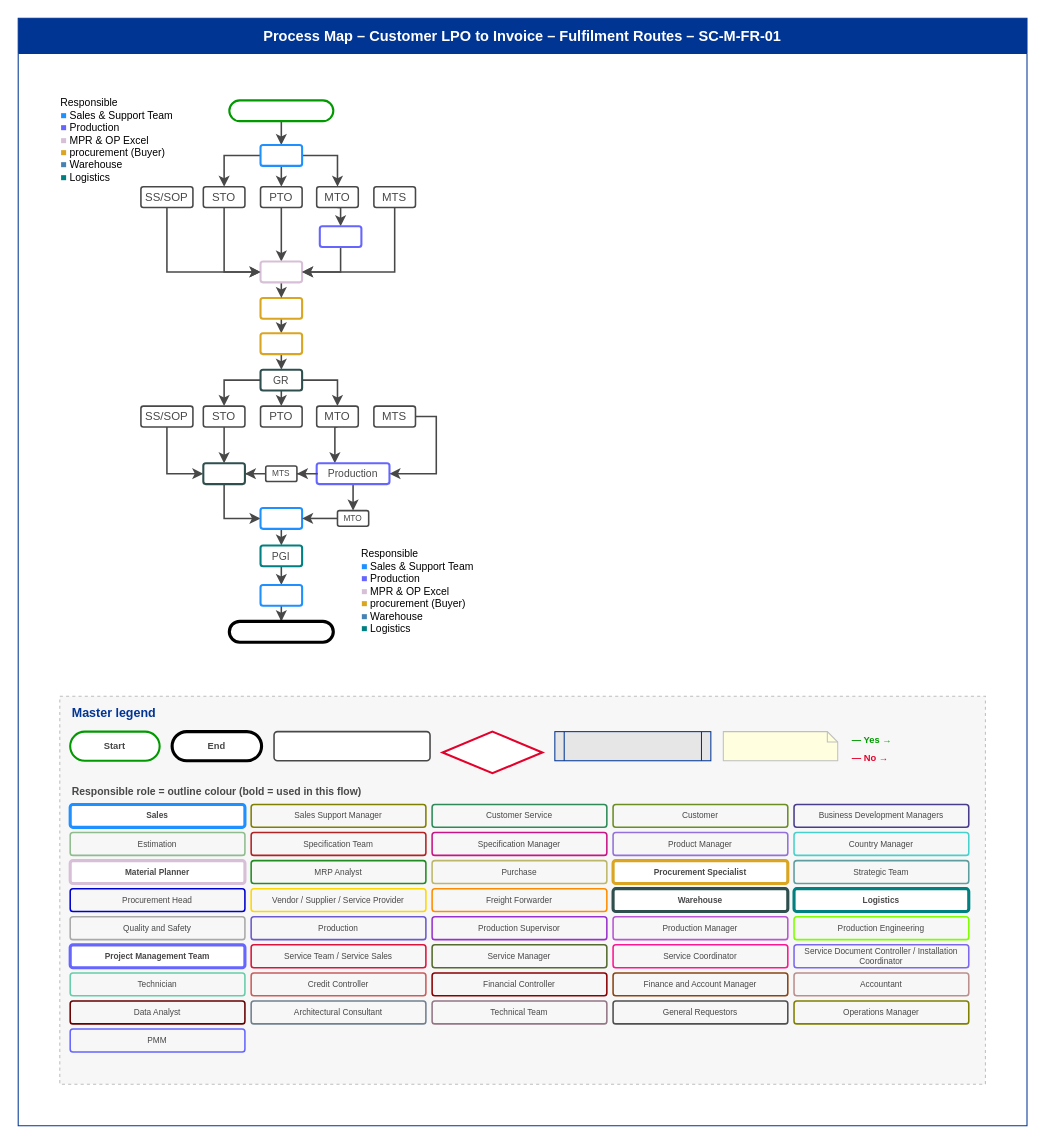
Some shapes in this 1045 by 1144 pixel diagram are drawn without their labels. Each missing label, with the centre of its shape:
Activity (outline = role): (x=351, y=745)
Complete: (x=280, y=631)
Customer LPO: (x=281, y=110)
Decision: (x=492, y=752)
FF: (x=281, y=343)
INV: (x=281, y=594)
Linked process (Ref ID): (x=632, y=746)
Note / checklist: (x=780, y=746)
OB: (x=281, y=517)
PL: (x=340, y=236)
PO: (x=281, y=307)
PR: (x=281, y=271)
SO/OC: (x=281, y=155)
STOCK: (x=223, y=473)
